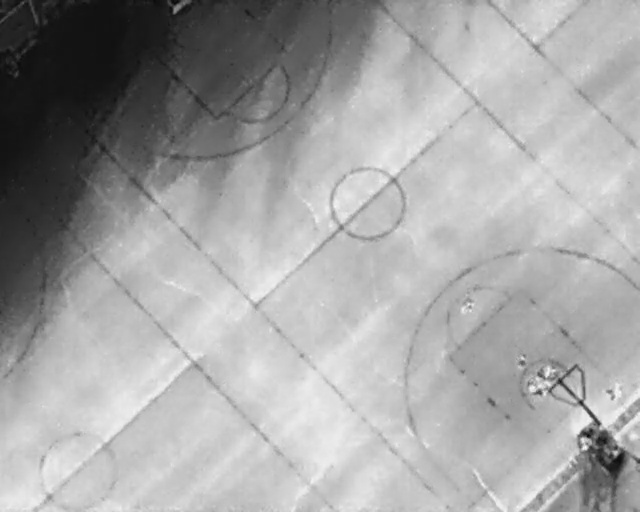Person: (456, 294, 479, 318), (533, 379, 556, 400), (605, 382, 622, 401), (544, 367, 564, 383), (514, 350, 529, 371), (536, 362, 553, 380), (524, 377, 540, 394)
